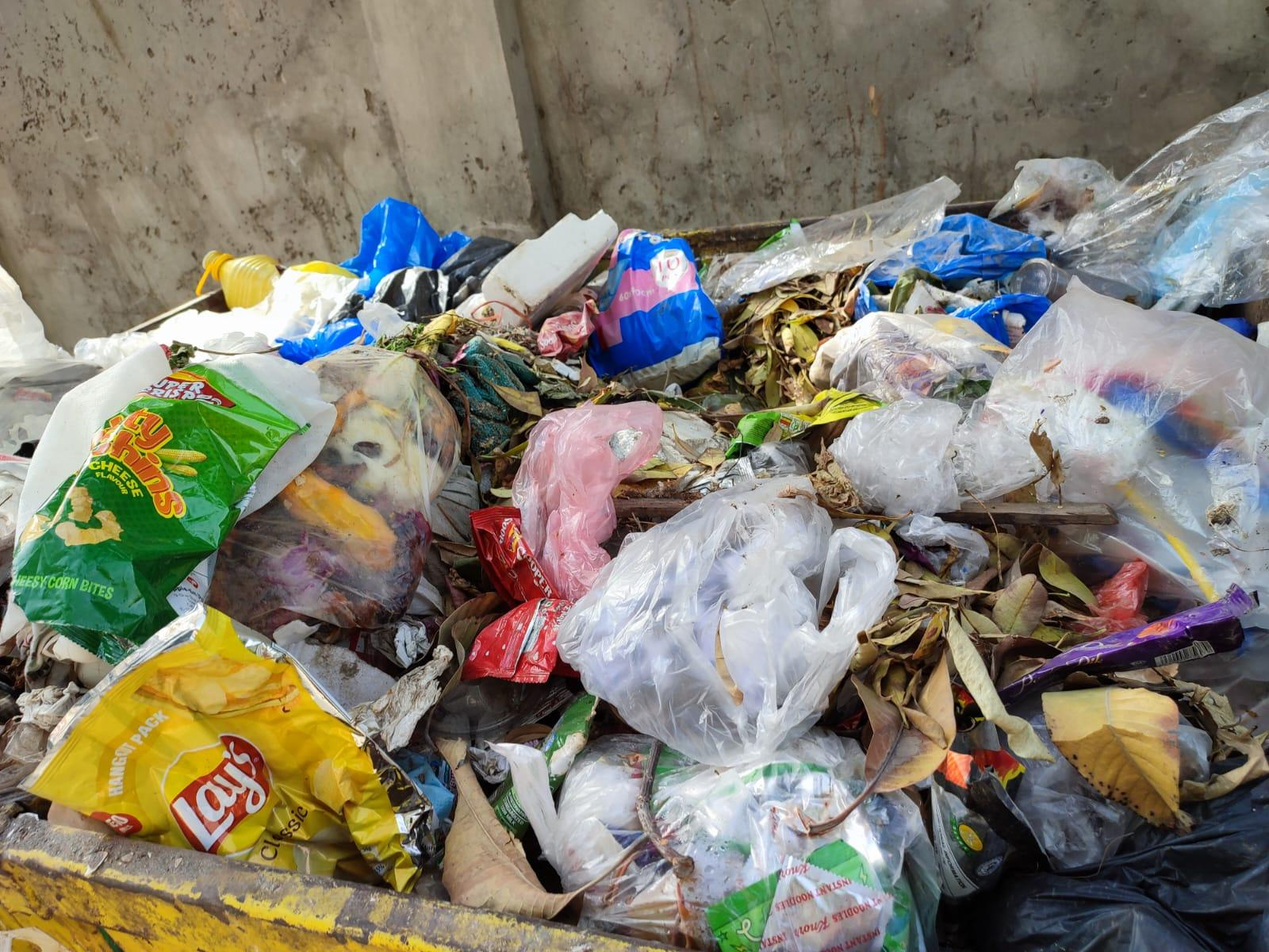garbage: (1, 186, 1269, 944)
